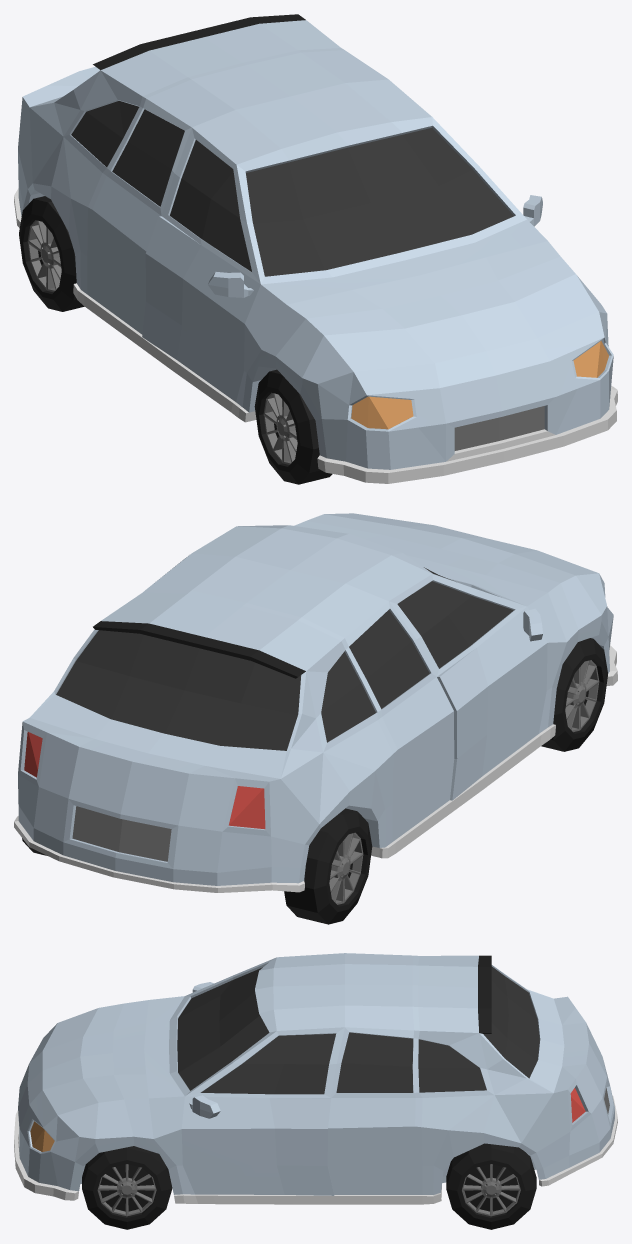
The model's file is traffic-normal-car-1191.glb.
The picture shows the model from 3 angles, top to bottom: view 1: azimuth 30°, elevation 25°; view 2: azimuth 150°, elevation 25°; view 3: azimuth 270°, elevation 25°; orthographic projection. The views are drawn at different scales.
Parts seen in each view (by area): view 1: NormalCar2, NormalCar2_FrontRightWheel, NormalCar2_BackWheels; view 2: NormalCar2, NormalCar2_BackWheels, NormalCar2_FrontRightWheel; view 3: NormalCar2, NormalCar2_BackWheels, NormalCar2_FrontLeftWheel.
Boxes of the visible parts, left/top/right/bottom form: NormalCar2: left=14, top=14, right=617, bottom=483; NormalCar2_FrontRightWheel: left=254, top=369, right=332, bottom=484; NormalCar2_BackWheels: left=19, top=196, right=84, bottom=311; NormalCar2: left=14, top=513, right=617, bottom=892; NormalCar2_BackWheels: left=22, top=808, right=372, bottom=924; NormalCar2_FrontRightWheel: left=541, top=638, right=607, bottom=751; NormalCar2: left=14, top=953, right=617, bottom=1204; NormalCar2_BackWheels: left=446, top=1143, right=536, bottom=1229; NormalCar2_FrontLeftWheel: left=82, top=1146, right=172, bottom=1229.
Size of the model in its own units: 1.64 by 1.15 by 3.31.
